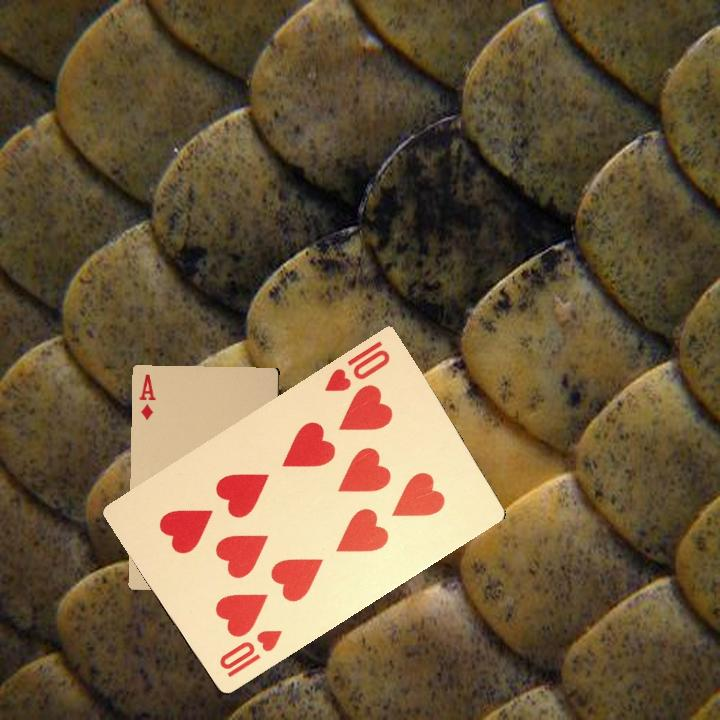10h: (321, 336, 393, 395), (215, 625, 285, 680)
Ad: (135, 370, 158, 422)
